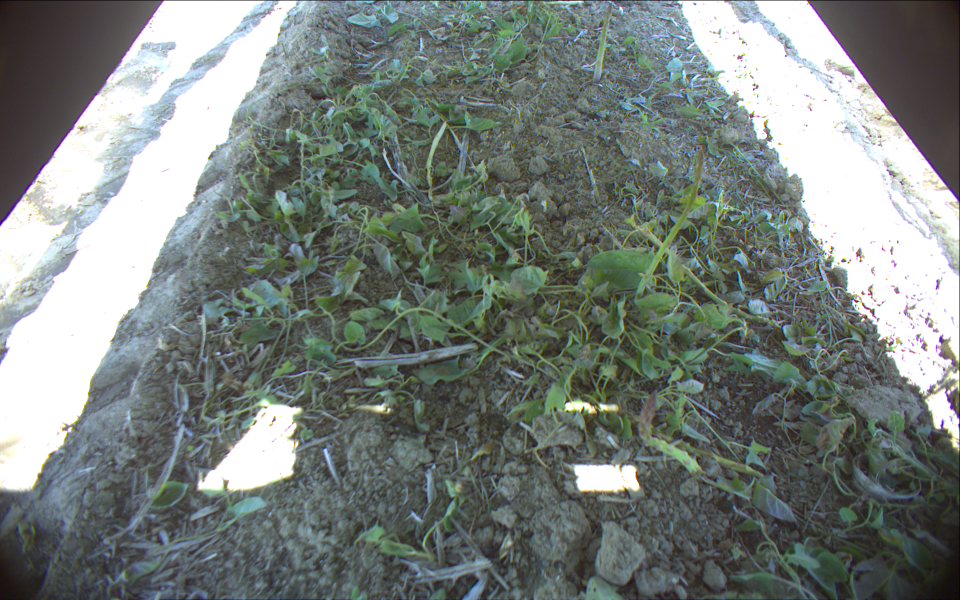aspa: (629, 146, 706, 310), (590, 3, 613, 85)
